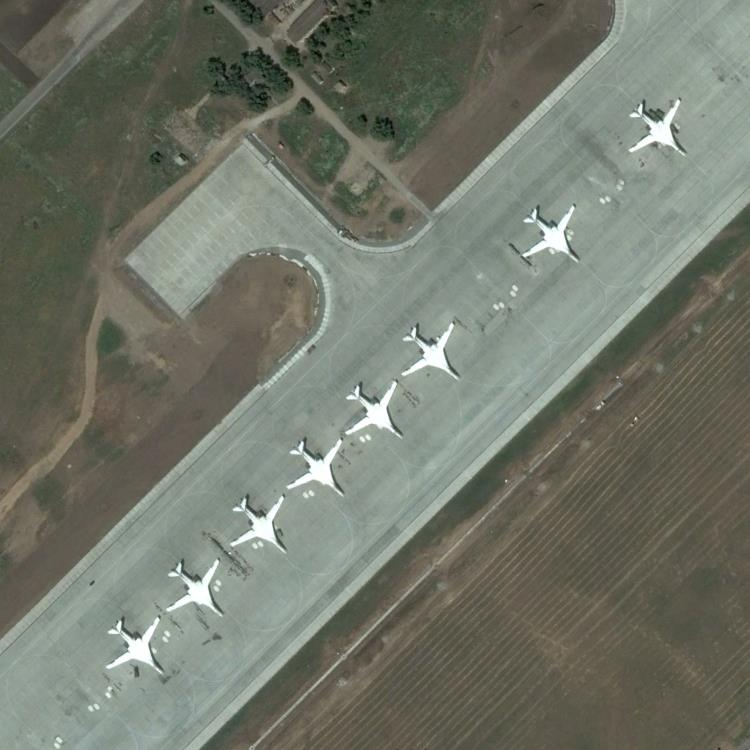A6: (521, 204, 581, 265), (628, 97, 688, 158), (106, 615, 165, 677), (402, 322, 461, 382), (167, 558, 225, 619), (346, 379, 403, 441), (230, 494, 288, 554), (288, 438, 346, 498)
